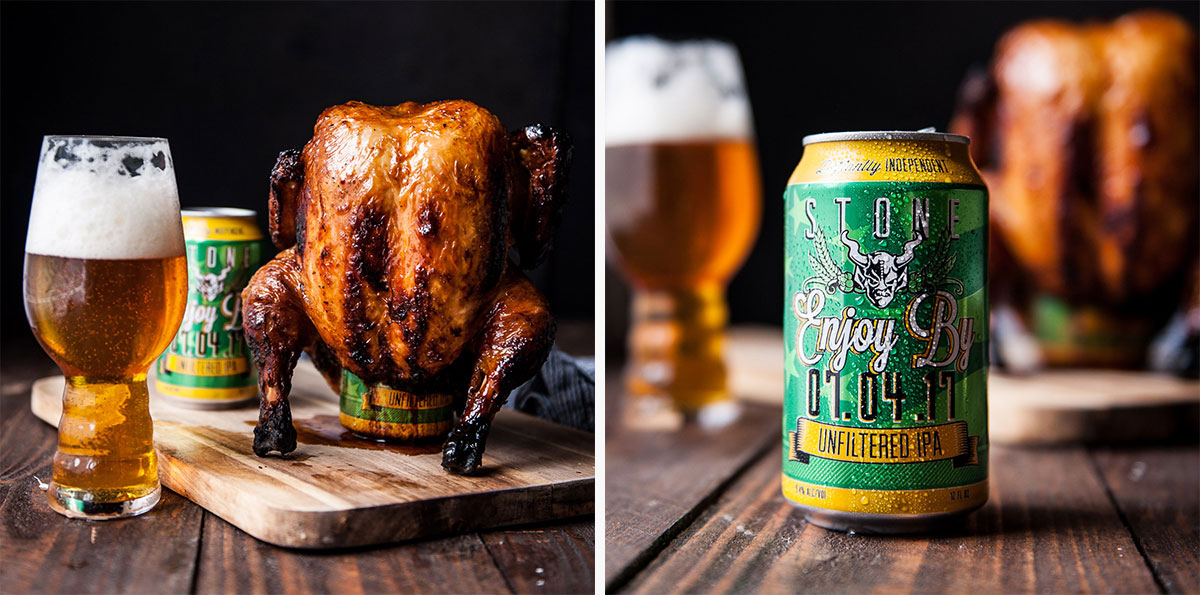beer can: (779, 131, 990, 534), (155, 206, 262, 409)
